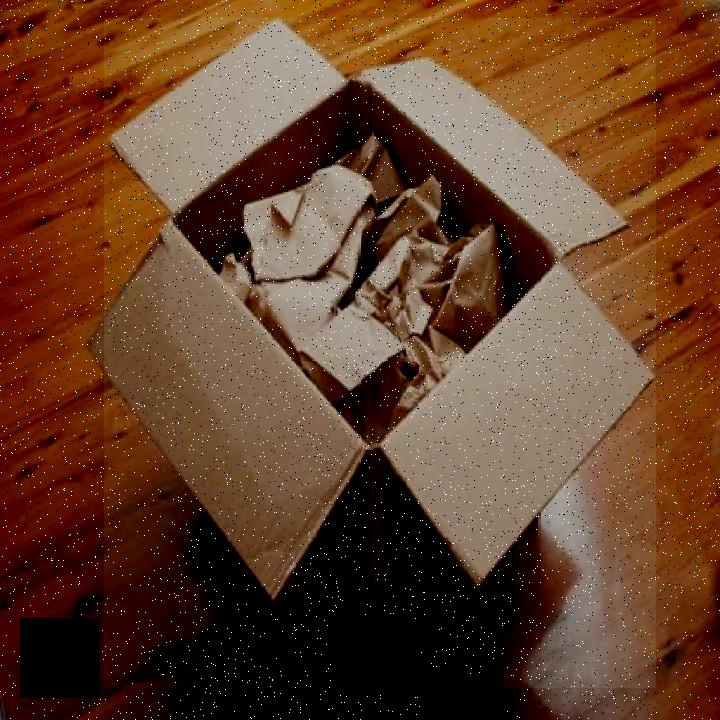box: (104, 18, 656, 688)
